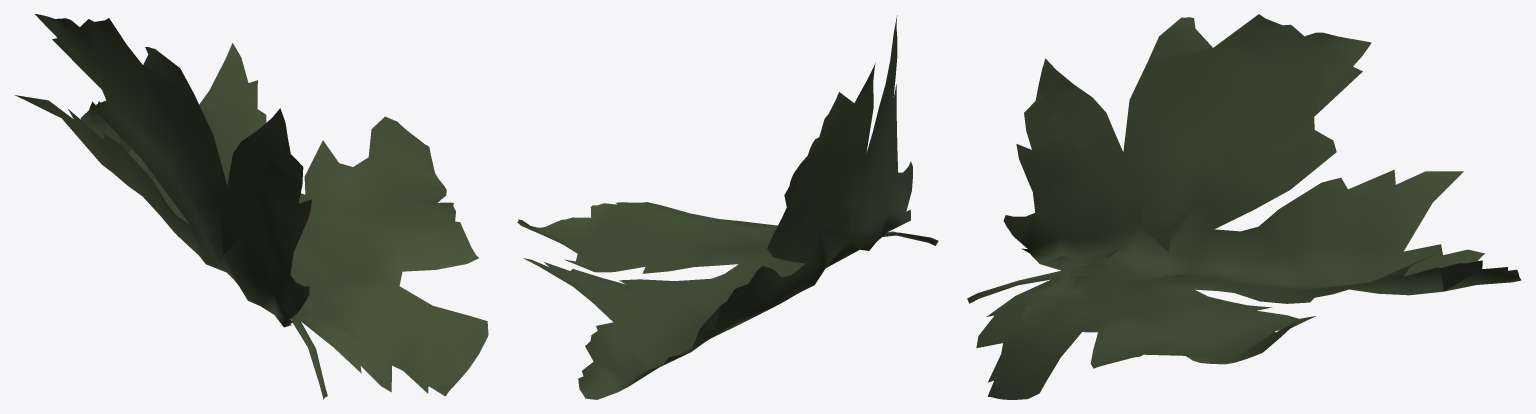
Rendered from trees-leaves-crumpled-leaf_v3.fbx.
3 renders of one model, left to right at view 1: azimuth 30°, elevation 25°; view 2: azimuth 150°, elevation 25°; view 3: azimuth 270°, elevation 25°, orthographic. The views are drawn at different scales.
Visible parts, largest first — view 1: Crumpled Leaf_v3; view 2: Crumpled Leaf_v3; view 3: Crumpled Leaf_v3.
Part boxes in pixels (x1=…): Crumpled Leaf_v3: x1=15, y1=14, x2=488, y2=399; Crumpled Leaf_v3: x1=517, y1=15, x2=938, y2=399; Crumpled Leaf_v3: x1=967, y1=14, x2=1521, y2=399.
Size of the model in its own units: 0.0778 by 0.0707 by 0.12.
